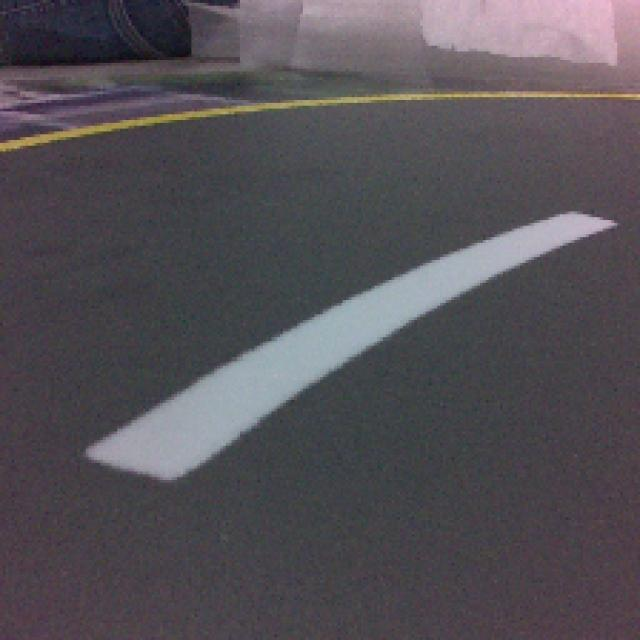Guard rail: (85, 209, 615, 486)
